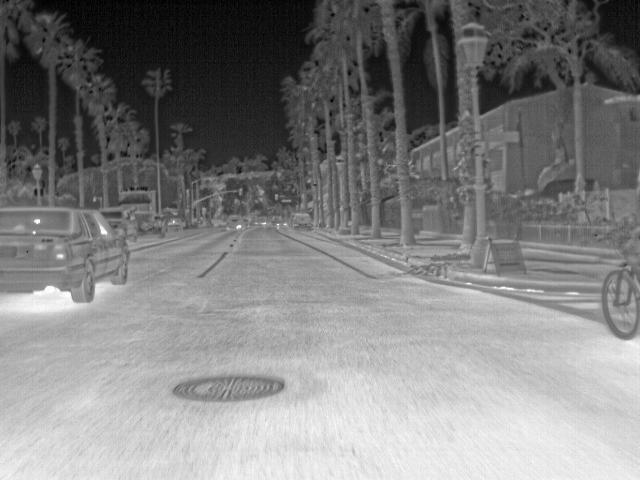car: (2, 206, 136, 306), (99, 209, 141, 241), (288, 211, 315, 231)
